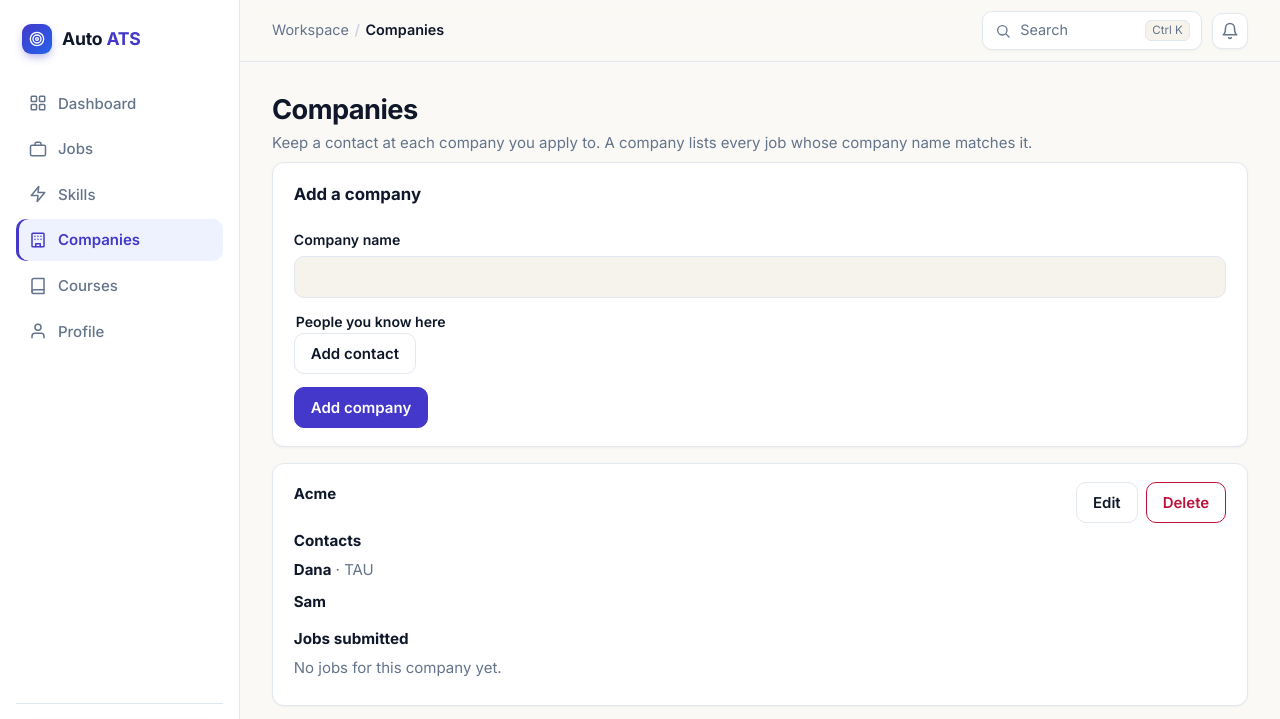
Test: CompaniesPage › GivenExistingCompany_WhenEditing_ThenFormIsPrefilledAndSaved
Click the button with aria-label "Edit Acme" at (1107, 502), box 1076,482 -> 1138,523
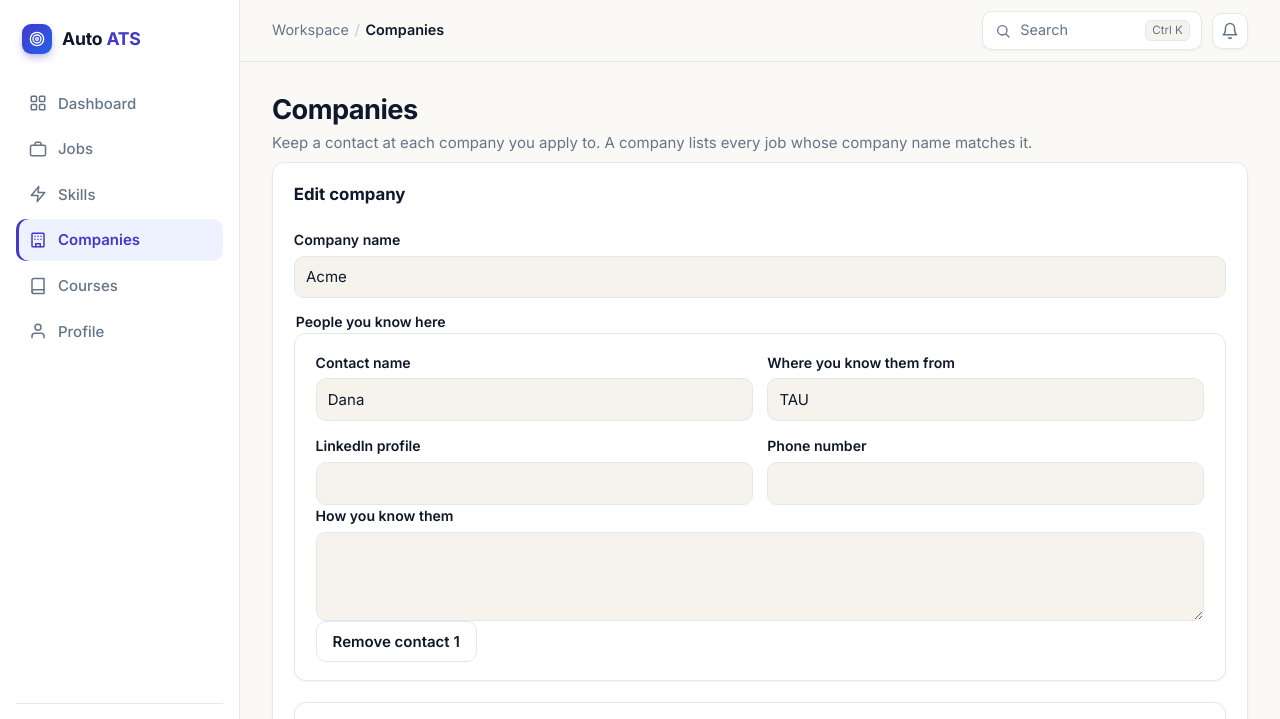
Result: the 1st field labelled "Contact name" holds "Dana"
Replace the text in the 1st field labelled "Contact name" with "Dani" at (534, 400), box 316,378 -> 753,421
(page scrolled)
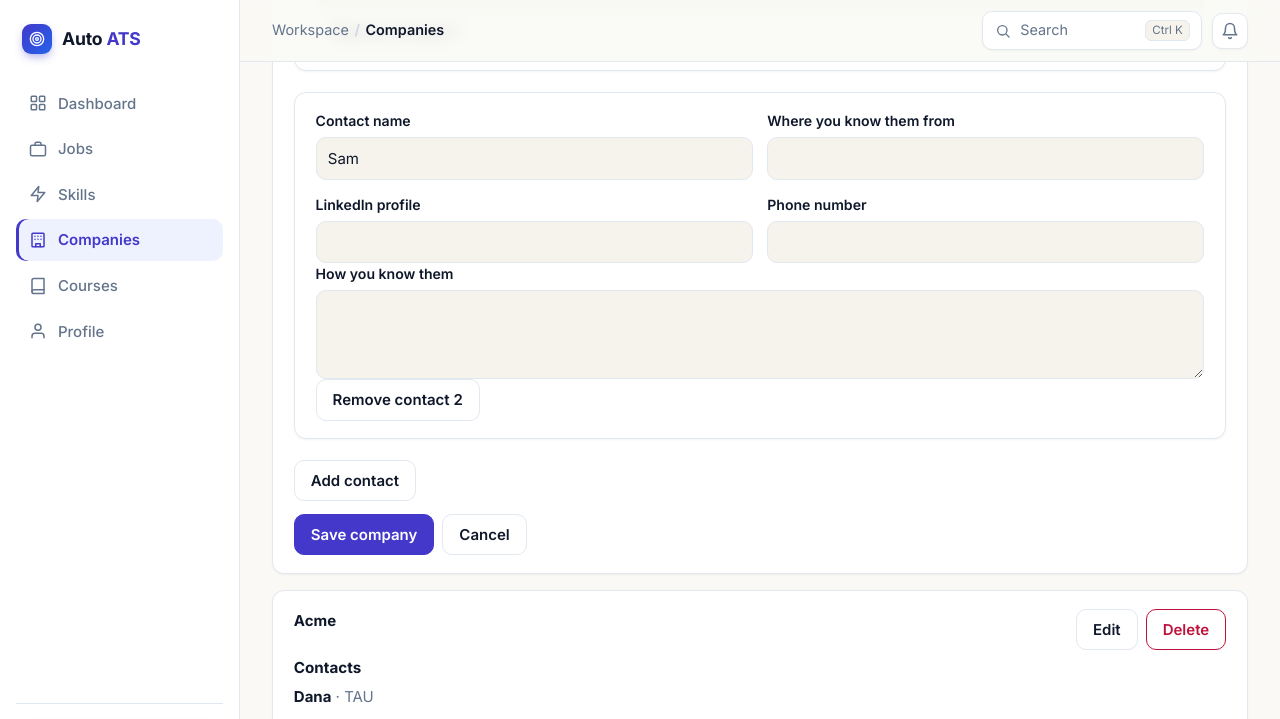
Click the button "Remove contact 2" at (398, 400), box 316,379 -> 480,421
(page scrolled)
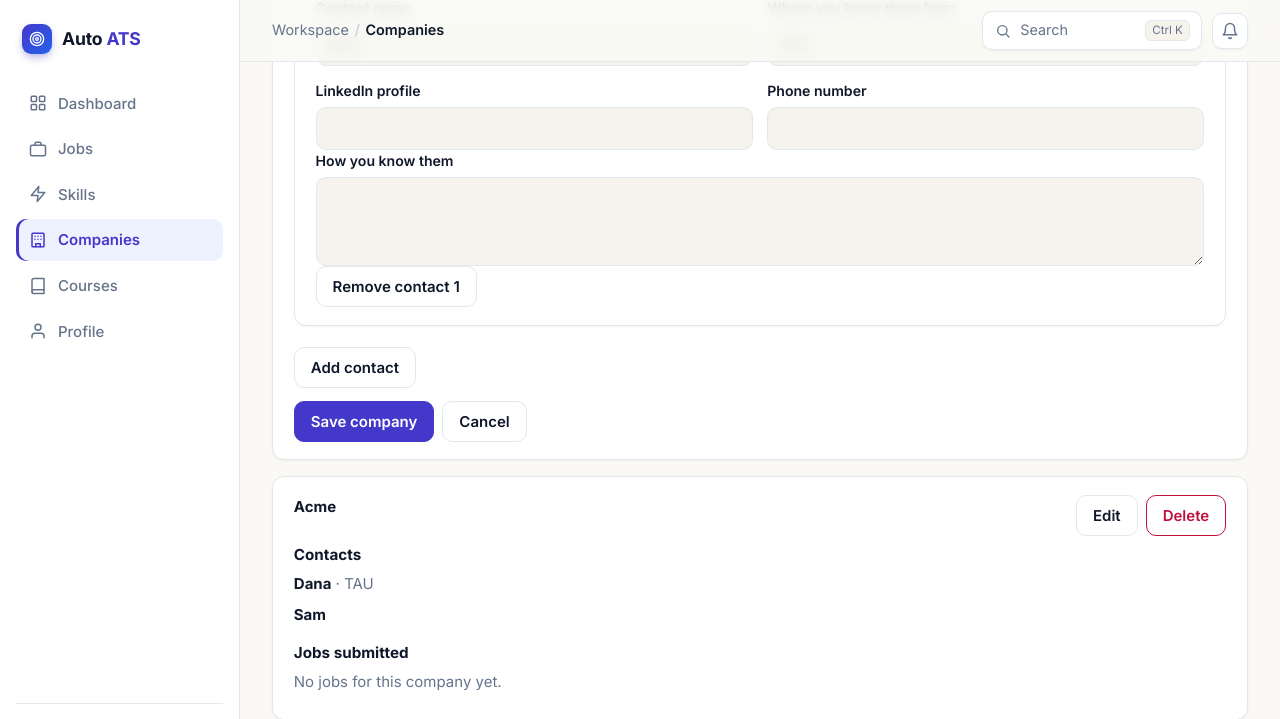
Click the button "Save company" at (364, 421), box 294,401 -> 434,442
(page scrolled)
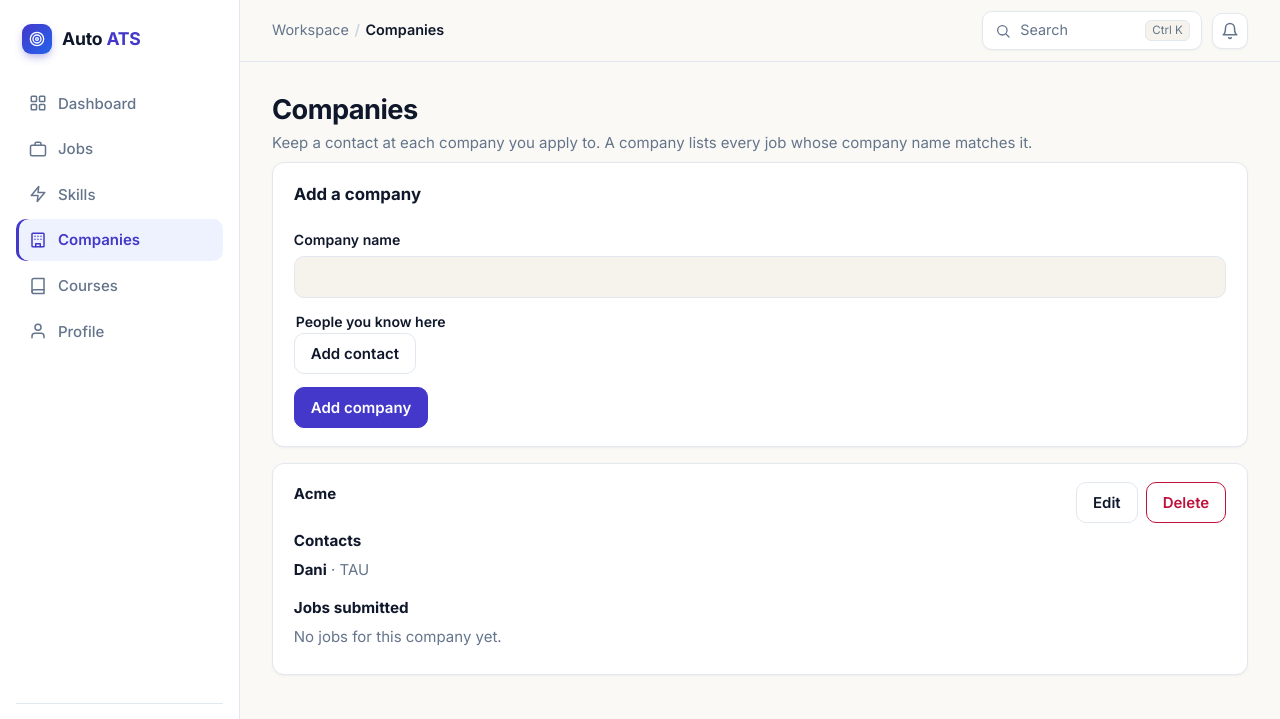
Result: the text "Dani" is shown at 294,560 -> 327,579
